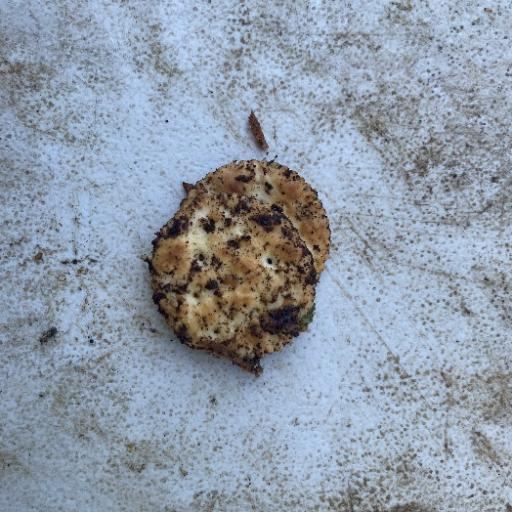Waste: (144, 157, 332, 377)
